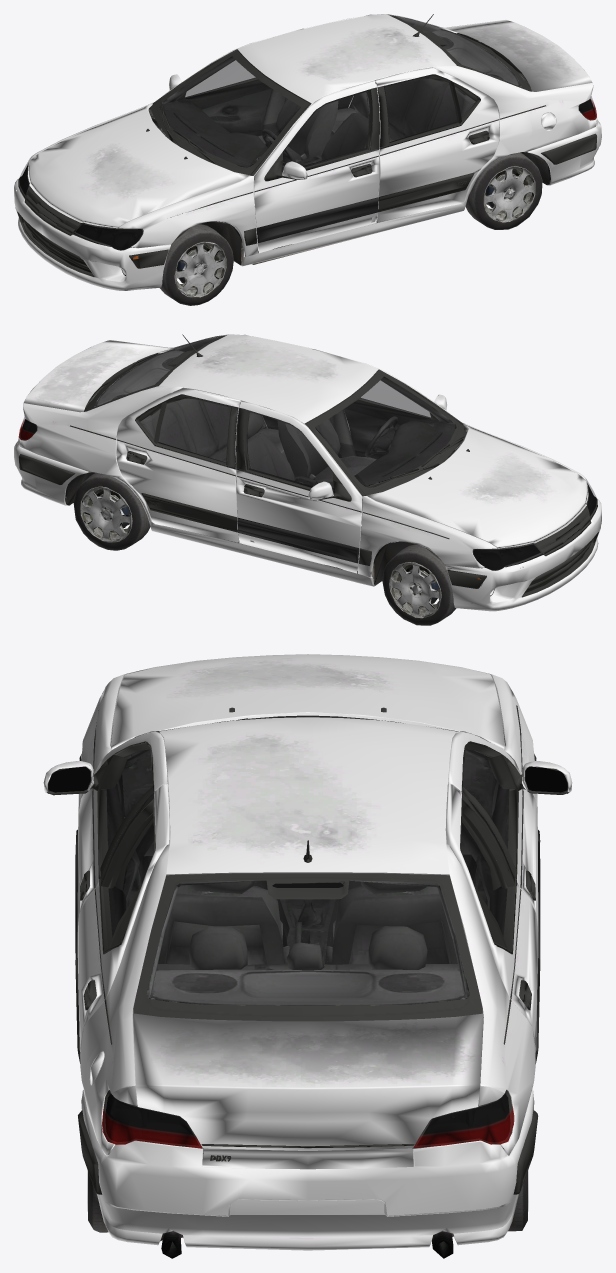
Rendered from peugeot-406.glb.
The picture shows the model from 3 angles, top to bottom: view 1: azimuth 30°, elevation 25°; view 2: azimuth 150°, elevation 25°; view 3: azimuth 270°, elevation 25°; orthographic projection. The views are drawn at different scales.
Parts seen in each view (by area): view 1: Object_6, Object_10, Object_12, Object_18, Object_8; view 2: Object_6, Object_10, Object_12, Object_18, Object_8; view 3: Object_6, Object_10, Object_12, Object_18, Object_8.
Boxes of the visible parts, box(x1,y1,x2,y2) form: Object_6: box(14, 14, 601, 290); Object_10: box(19, 16, 596, 259); Object_12: box(149, 16, 526, 242); Object_18: box(160, 152, 542, 305); Object_8: box(31, 107, 550, 272); Object_6: box(14, 334, 601, 611); Object_10: box(19, 337, 596, 579); Object_12: box(90, 336, 467, 563); Object_18: box(73, 472, 456, 625); Object_8: box(65, 428, 584, 593); Object_6: box(43, 654, 572, 1250); Object_10: box(101, 689, 514, 1148); Object_12: box(106, 715, 509, 1005); Object_18: box(87, 1170, 528, 1232); Object_8: box(110, 718, 505, 1258).
Size of what is drawn, in the model's own units: 20.31 by 6.77 by 8.9.
5 materials, 5 textured.
